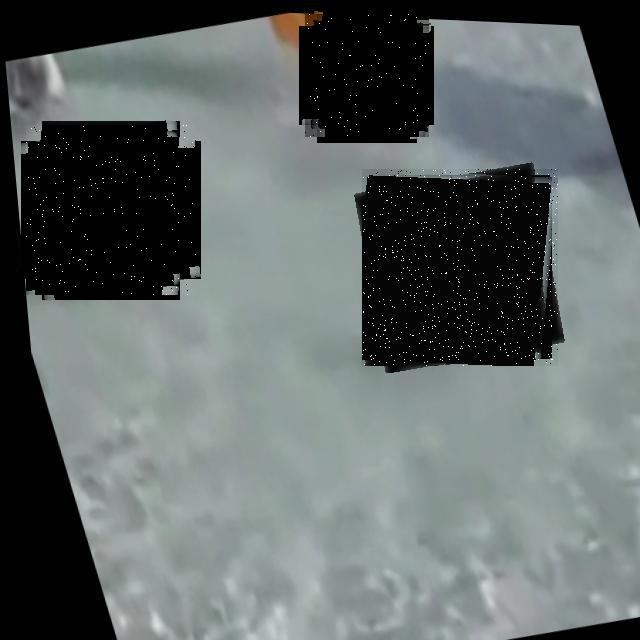swimming: (362, 169, 558, 366), (26, 125, 196, 295), (305, 14, 429, 137)
